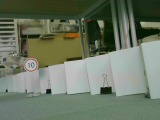speed_10: (21, 56, 39, 73)
